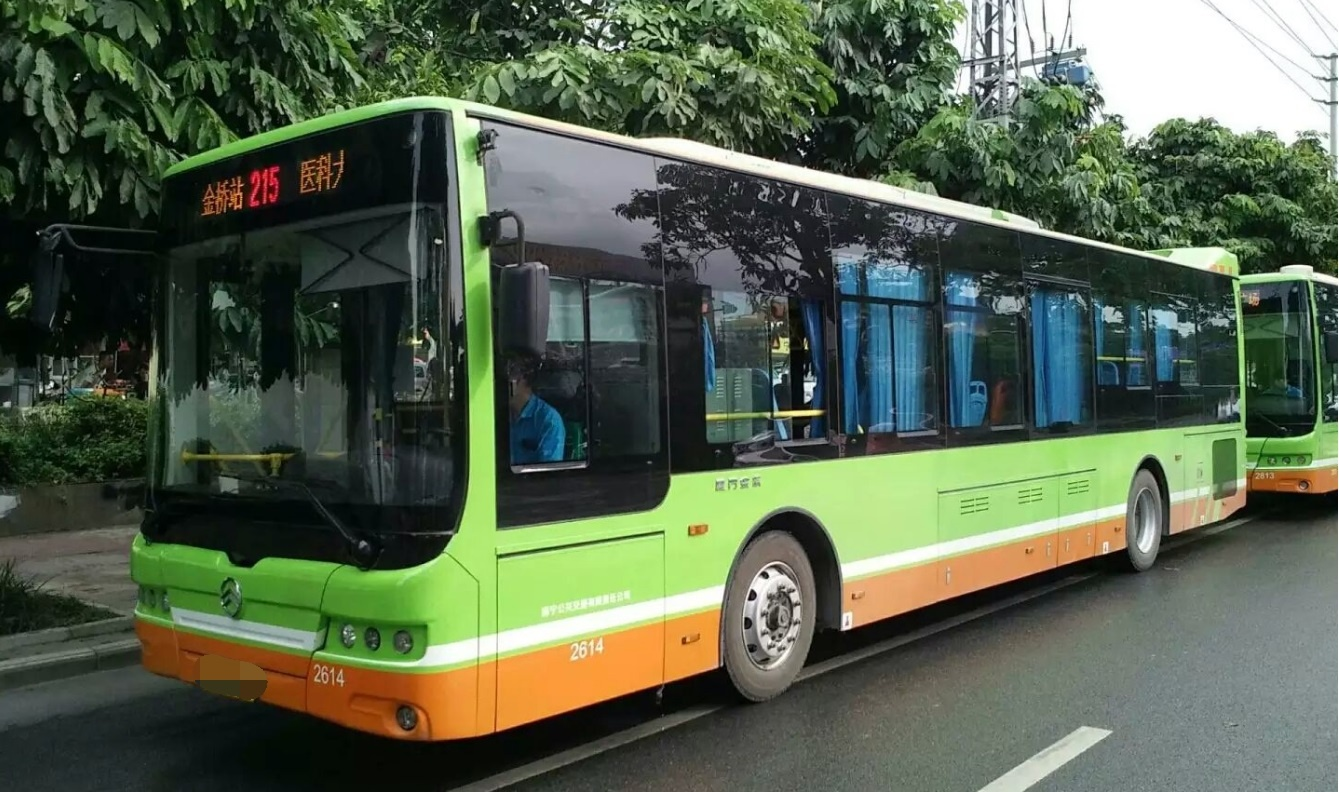bus: (105, 101, 1261, 708)
